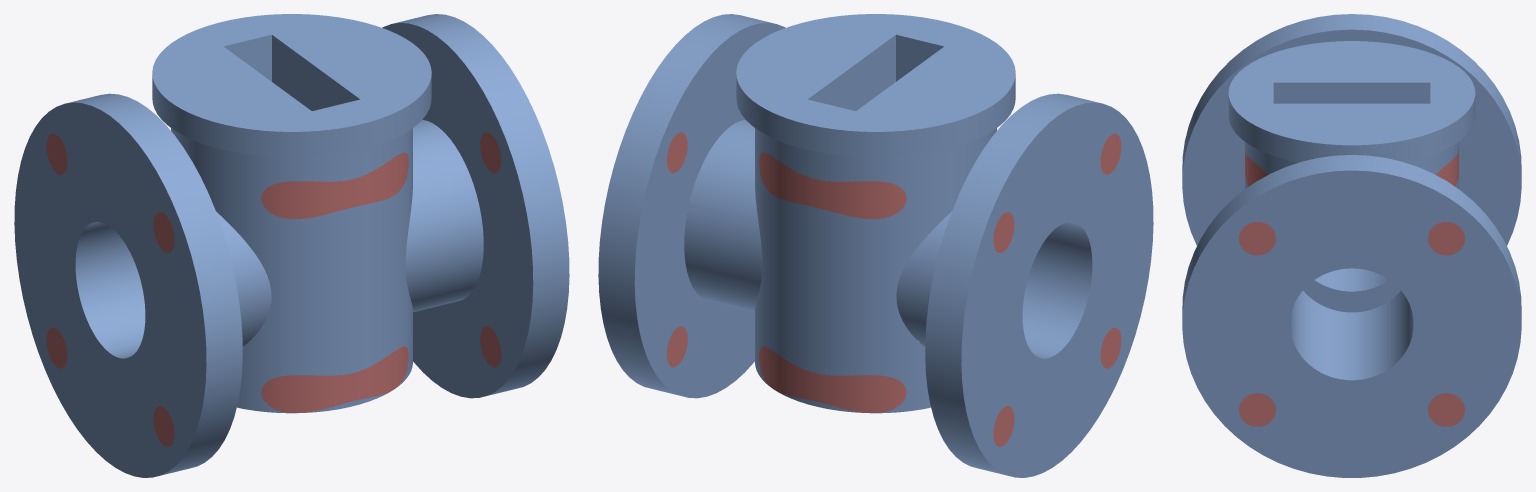
Rendered from step_11.glb.
3 renders of one model, left to right at view 1: azimuth 30°, elevation 25°; view 2: azimuth 150°, elevation 25°; view 3: azimuth 270°, elevation 25°, orthographic. The views are drawn at different scales.
Parts seen in each view (by area): view 1: part__body top valve, removed__body top valve; view 2: part__body top valve, removed__body top valve; view 3: part__body top valve, removed__body top valve.
Part boxes in pixels (x1,y1,x2,y2): part__body top valve: (14,14,569,477); removed__body top valve: (46,132,501,446); part__body top valve: (598,14,1153,477); removed__body top valve: (666,132,1121,446); part__body top valve: (1182,14,1521,477); removed__body top valve: (1239,150,1464,426).
Bounding box in the file's own units: 180 × 165 × 165.
